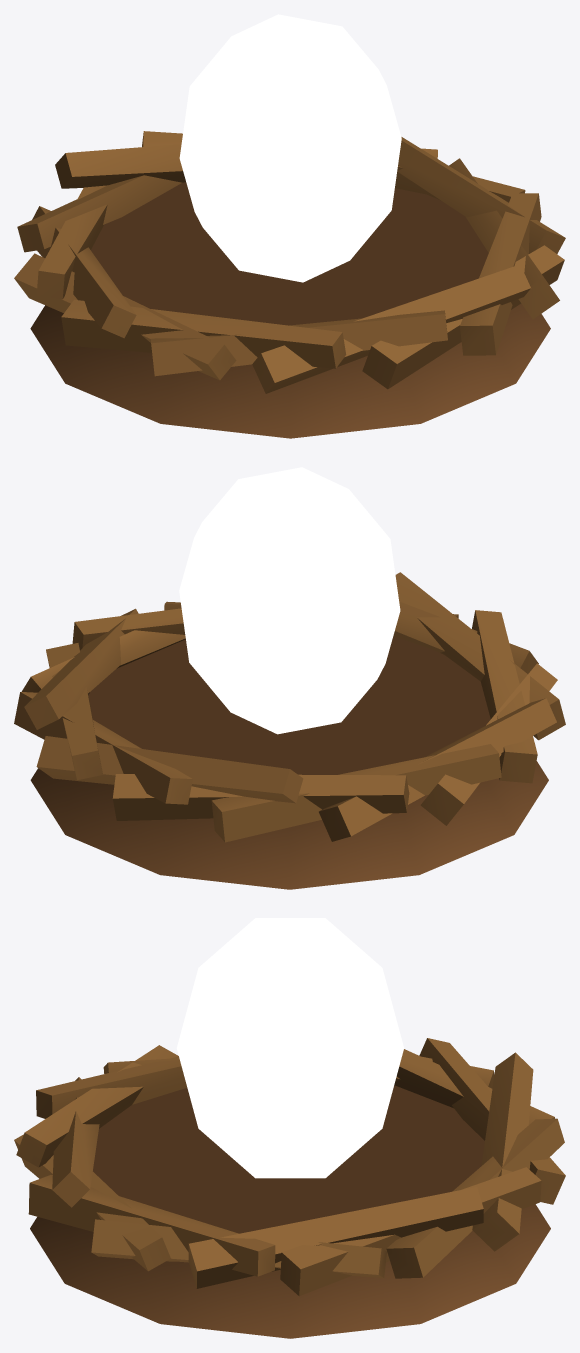
The model's file is p_egg_nest.glb.
3 views of the same model, one above another, from view 1: azimuth 30°, elevation 25°; view 2: azimuth 150°, elevation 25°; view 3: azimuth 270°, elevation 25° (orthographic).
Parts seen in each view (by area): view 1: body, egg_glow; view 2: body, egg_glow; view 3: body, egg_glow.
Part boxes in pixels (x1,y1,x2,y2): body: [14, 131, 565, 438]; egg_glow: [179, 14, 401, 282]; body: [14, 572, 565, 889]; egg_glow: [179, 467, 400, 734]; body: [14, 1038, 565, 1338]; egg_glow: [176, 918, 403, 1178].
Bounding box in the file's own units: 1.17 × 0.72 × 1.16.
